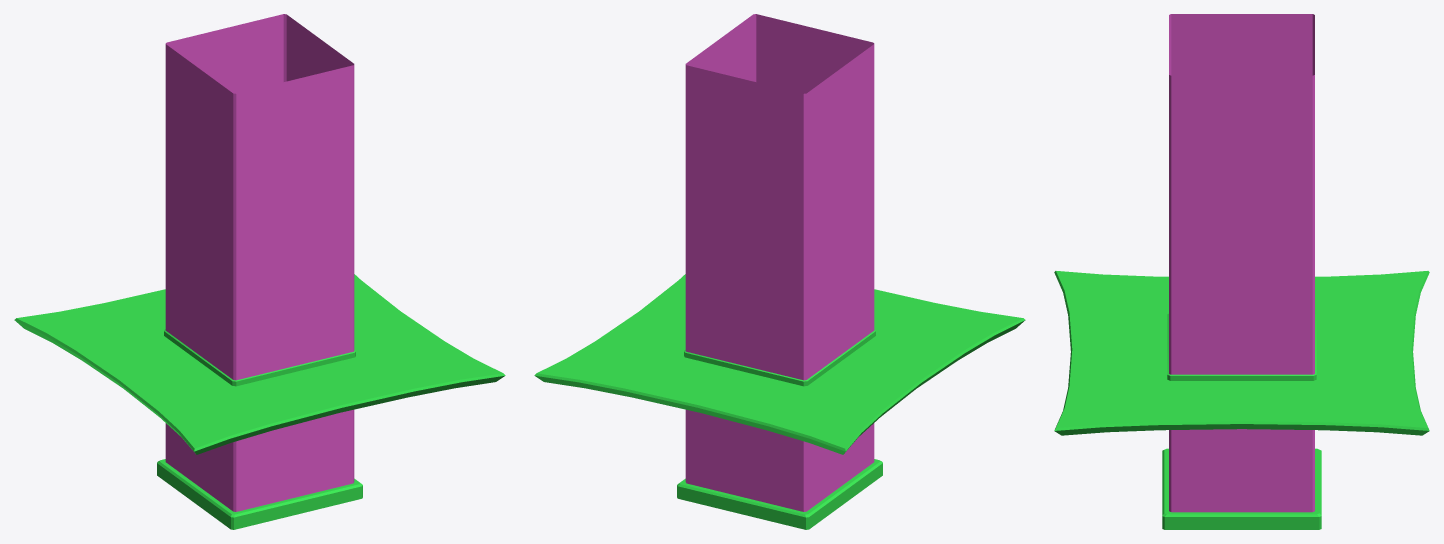
File: SM_BreakRoomPillar.fbx
The picture shows the model from 3 angles, left to right: view 1: azimuth 30°, elevation 25°; view 2: azimuth 150°, elevation 25°; view 3: azimuth 270°, elevation 25°; orthographic projection. The views are drawn at different scales.
Visible parts, largest first — view 1: Pillar; view 2: Pillar; view 3: Pillar.
Boxes of the visible parts, <box> form: Pillar: <box>14,14,505,529</box>; Pillar: <box>534,14,1025,529</box>; Pillar: <box>1054,14,1429,529</box>.
Bounding box in the file's own units: 285 × 378 × 285.
